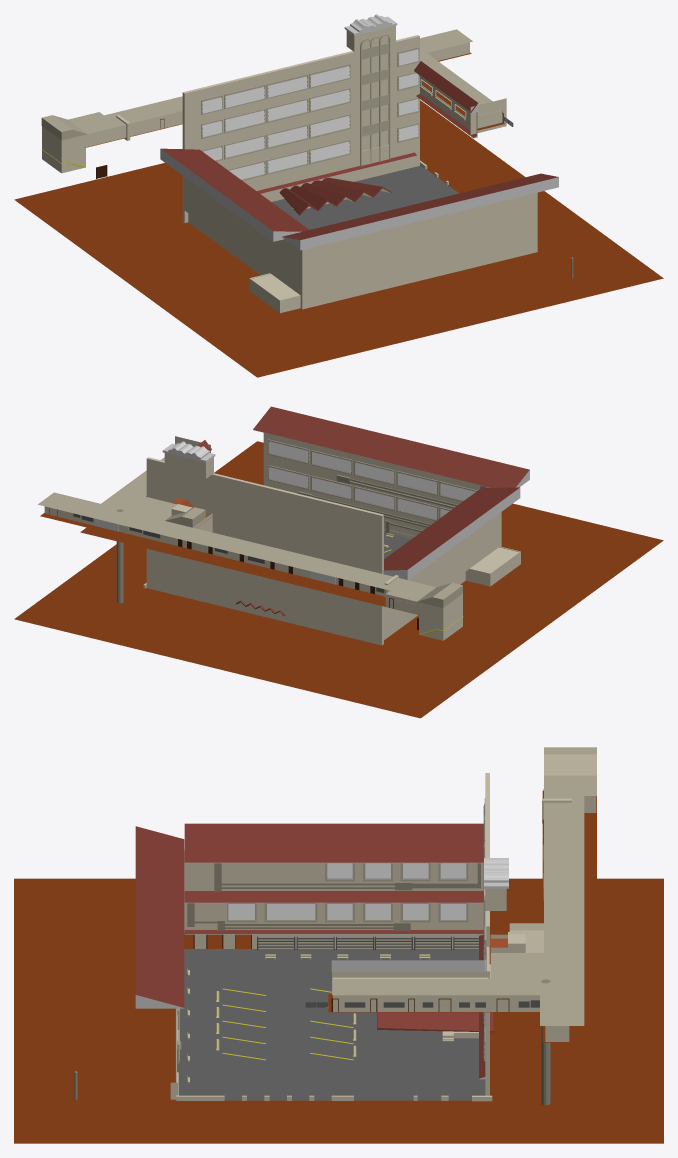
Rendered from 4th flr.fbx.
3 renders of one model, top to bottom at view 1: azimuth 30°, elevation 25°; view 2: azimuth 150°, elevation 25°; view 3: azimuth 270°, elevation 25°, orthographic. The views are drawn at different scales.
Parts seen in each view (by area): view 1: 4th flr.000; view 2: 4th flr.000; view 3: 4th flr.000.
Part boxes in pixels (bbox=[...]): 4th flr.000: bbox=[14, 14, 663, 377]; 4th flr.000: bbox=[14, 406, 663, 718]; 4th flr.000: bbox=[14, 747, 663, 1143].
Size of the model in its own units: 167 by 59.83 by 171.
